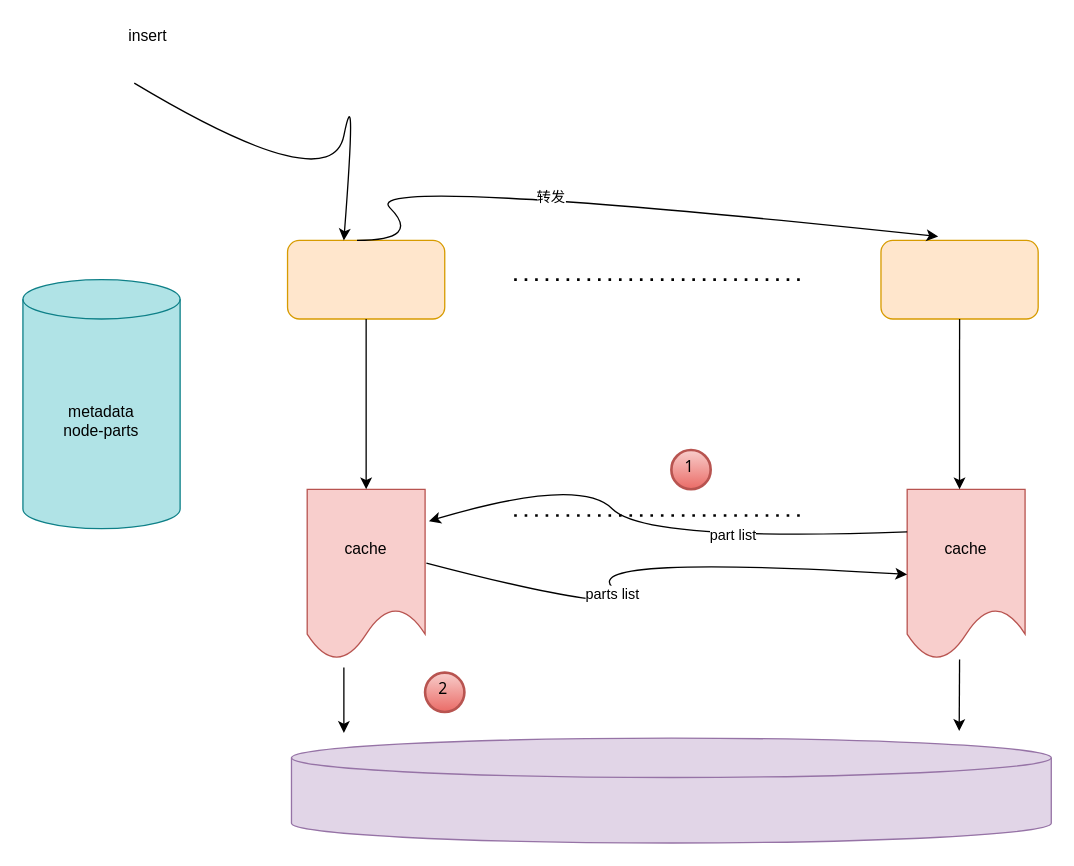
Image size: 1074x866. Some labels were removed from this diagram. The centre of each missing label's shape, as x and y in pixels:
cfs: the point at 670,790
shard1: the point at 365,279
shardN: the point at 959,279
